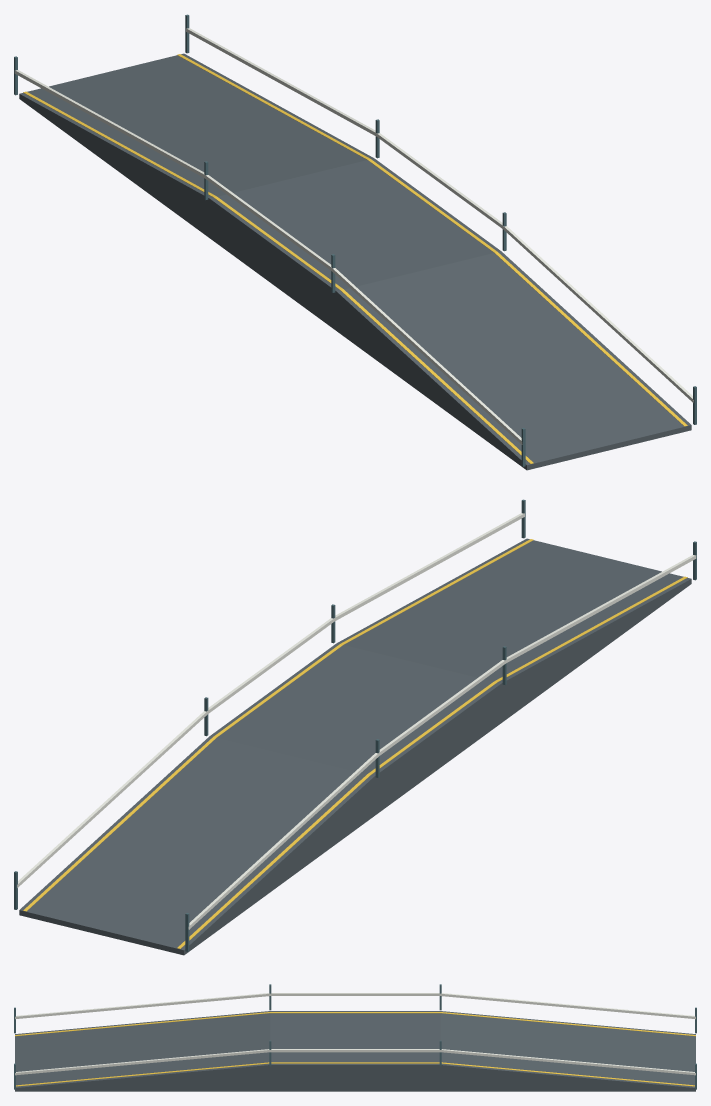
Rendered from TK_Hill_6x32.fbx.
3 views of the same model, one above another, from view 1: azimuth 30°, elevation 25°; view 2: azimuth 150°, elevation 25°; view 3: azimuth 270°, elevation 25° (orthographic). The views are drawn at different scales.
Parts seen in each view (by area): view 1: DriveSurface_Hill, GuardRail.003, GuardRail, GuardRail.002, GuardRail.005, EdgePaint.003, EdgePaint, GuardRail.004, GuardRail.001; view 2: DriveSurface_Hill, GuardRail.005, GuardRail.002, GuardRail, GuardRail.003, EdgePaint.005, EdgePaint.002, GuardRail.004, GuardRail.001; view 3: DriveSurface_Hill, GuardRail, GuardRail.002, GuardRail.003, GuardRail.005, GuardRail.004, GuardRail.001, EdgePaint, EdgePaint.002, EdgePaint.003, EdgePaint.005, EdgePaint.001 (+1 smaller).
Part boxes in pixels (x1,y1,x2,y2): DriveSurface_Hill: (19, 53, 691, 470); GuardRail.003: (503, 226, 693, 402); GuardRail: (332, 268, 522, 444); GuardRail.002: (14, 70, 204, 178); GuardRail.005: (186, 28, 376, 135); EdgePaint.003: (494, 251, 687, 426); EdgePaint: (340, 289, 533, 463); GuardRail.004: (376, 133, 503, 228); GuardRail.001: (205, 175, 331, 270); DriveSurface_Hill: (19, 538, 691, 955); GuardRail.005: (17, 711, 207, 887); GuardRail.002: (188, 753, 378, 929); GuardRail: (506, 555, 696, 663); GuardRail.003: (334, 513, 524, 620); EdgePaint.005: (23, 736, 216, 911); EdgePaint.002: (177, 774, 370, 948); GuardRail.004: (207, 618, 334, 713); GuardRail.001: (379, 660, 505, 755); DriveSurface_Hill: (15, 1011, 695, 1091); GuardRail: (15, 993, 270, 1019); GuardRail.002: (440, 993, 695, 1019); GuardRail.003: (15, 1049, 270, 1075); GuardRail.005: (440, 1049, 695, 1075); GuardRail.004: (270, 1049, 440, 1052); GuardRail.001: (270, 993, 440, 995); EdgePaint: (15, 1012, 270, 1036); EdgePaint.002: (440, 1012, 695, 1036); EdgePaint.003: (16, 1062, 269, 1086); EdgePaint.005: (441, 1062, 694, 1086); EdgePaint.001: (270, 1012, 440, 1013).
Bounding box in the file's own units: 6.34 × 2.68 × 32.09.
